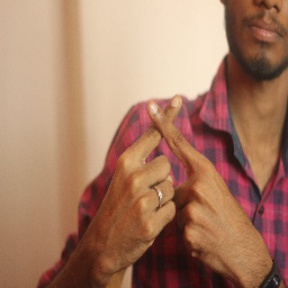X: (115, 89, 211, 190)
